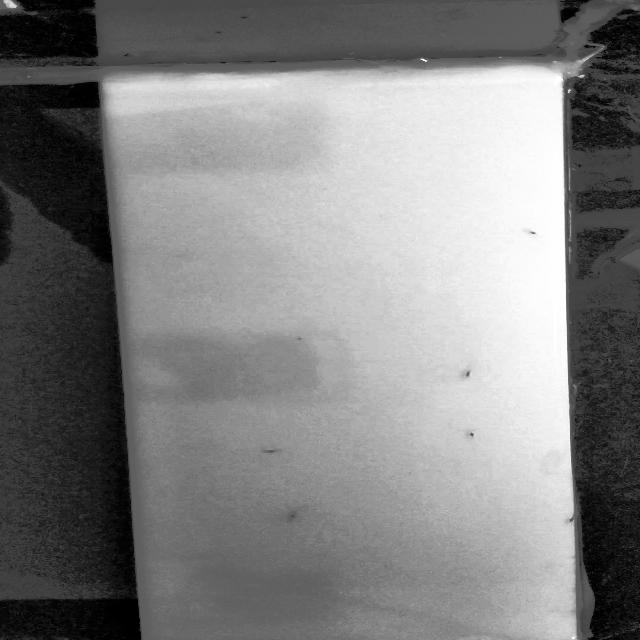shrimp: (280, 505, 310, 525), (455, 364, 483, 381), (515, 226, 545, 239), (461, 428, 483, 443), (257, 444, 285, 455)
